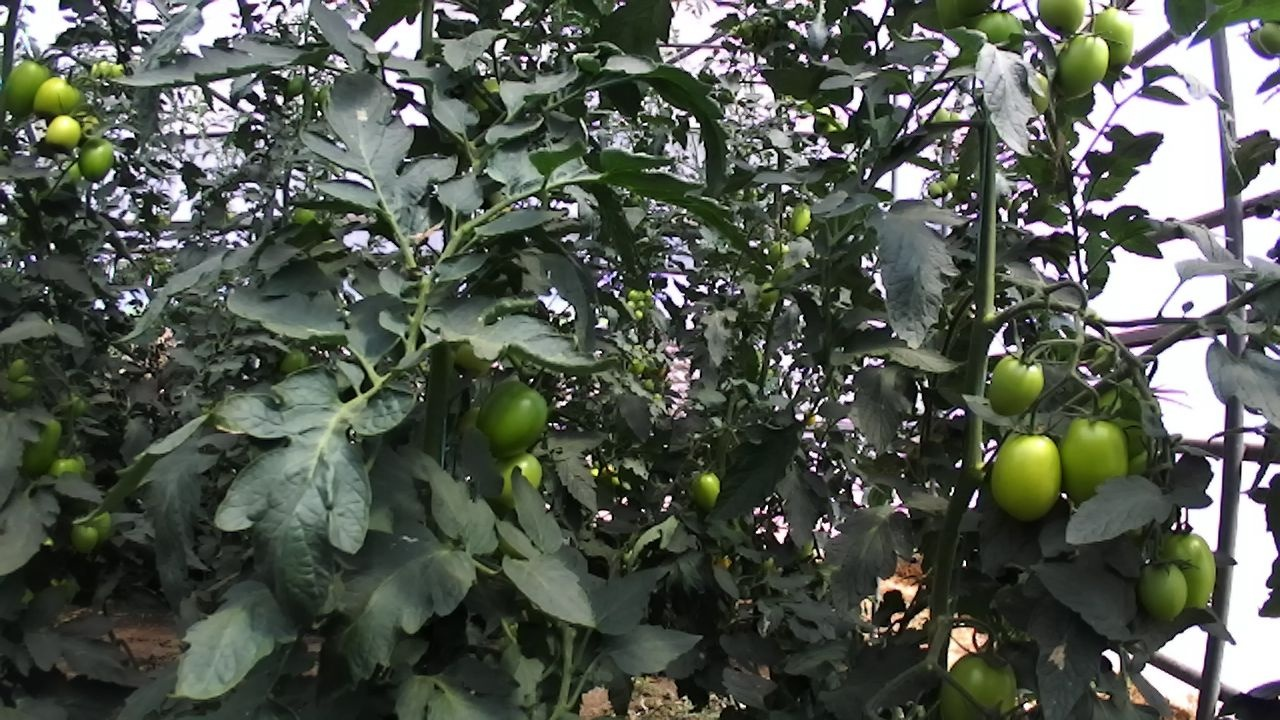tomato: (1049, 394, 1155, 523), (980, 417, 1087, 533), (928, 629, 1043, 720), (471, 370, 566, 466), (974, 335, 1060, 432), (1153, 519, 1231, 619), (1130, 546, 1199, 636), (480, 440, 557, 517), (1048, 23, 1116, 110), (1088, 1, 1150, 85), (966, 1, 1034, 68), (14, 411, 71, 486), (0, 52, 56, 123), (27, 67, 88, 129), (682, 456, 736, 521), (1030, 0, 1096, 45), (41, 444, 90, 502), (40, 106, 92, 158), (74, 133, 122, 188), (274, 338, 314, 383), (782, 194, 818, 243), (81, 505, 119, 550), (66, 519, 103, 559), (276, 68, 311, 107), (5, 372, 40, 407), (764, 237, 797, 273), (756, 277, 785, 313), (4, 355, 33, 387), (930, 103, 954, 130), (923, 177, 945, 200), (95, 57, 114, 82), (942, 169, 962, 191), (108, 59, 127, 82), (625, 286, 642, 303), (632, 305, 646, 322), (625, 296, 638, 312)
